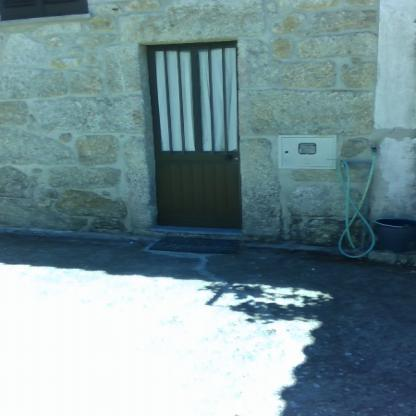door: (150, 44, 244, 230)
knob: (226, 155, 233, 162)
